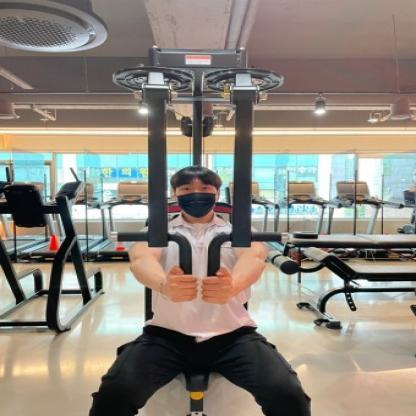chest fly machine: (0, 30, 416, 416)
